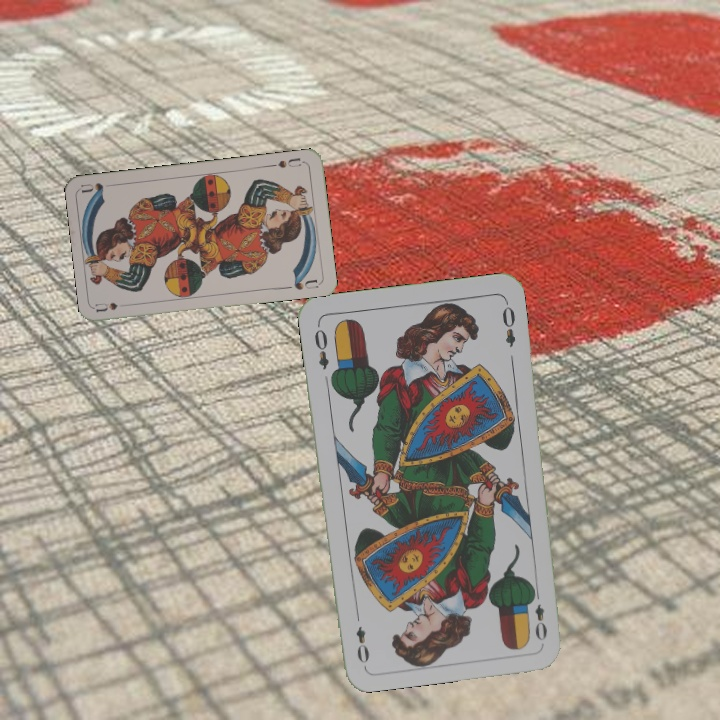EO: (527, 585, 550, 644), (310, 320, 331, 372)
SU: (266, 154, 307, 171), (93, 299, 134, 314)
